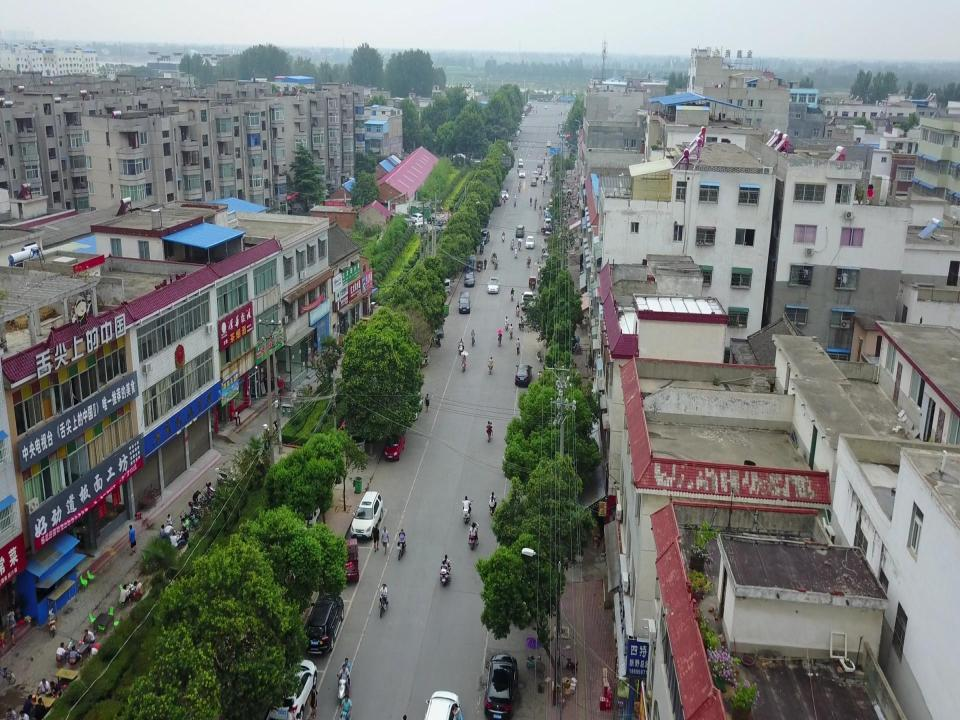car: (271, 655, 317, 720), (302, 591, 345, 657), (484, 649, 518, 720), (350, 491, 384, 539), (426, 692, 460, 720), (298, 497, 322, 528), (385, 431, 405, 460), (405, 393, 423, 422), (515, 363, 533, 387), (521, 292, 535, 310), (487, 275, 499, 294), (428, 214, 444, 225), (478, 230, 490, 244), (463, 272, 475, 286), (543, 217, 553, 231), (409, 213, 423, 223), (525, 236, 535, 249), (429, 226, 443, 235), (452, 152, 466, 160), (516, 224, 524, 237), (500, 189, 508, 200), (536, 167, 542, 176), (519, 170, 525, 179), (530, 179, 537, 186), (511, 131, 519, 137), (533, 172, 539, 180), (537, 162, 543, 169), (512, 130, 520, 135), (513, 128, 522, 132), (546, 141, 552, 147), (544, 103, 548, 110)
van: (342, 421, 366, 455), (429, 277, 451, 297), (458, 291, 471, 314), (413, 222, 427, 234), (518, 158, 524, 168)
